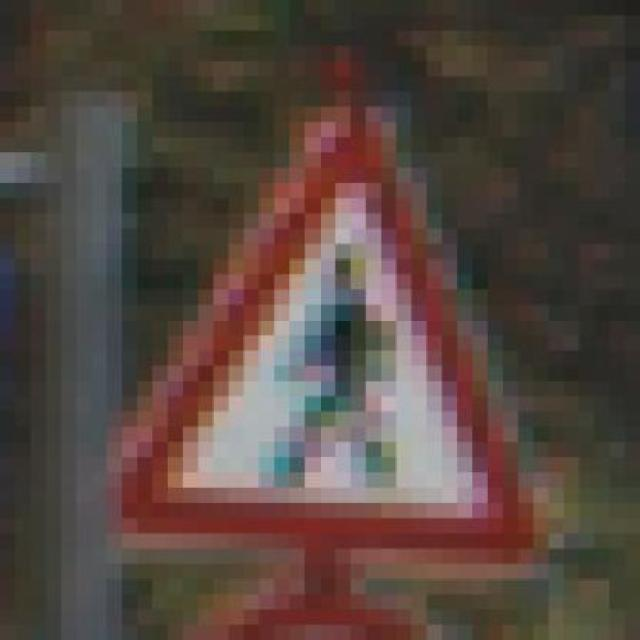Pedestrian Crossing: (107, 76, 564, 564)
